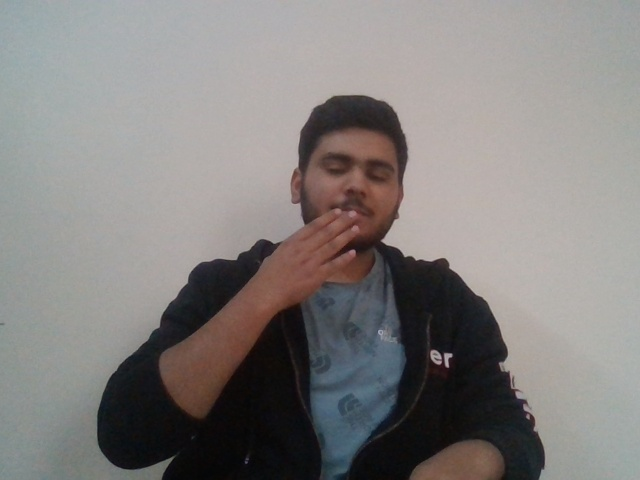Thanks: (248, 191, 437, 297)
